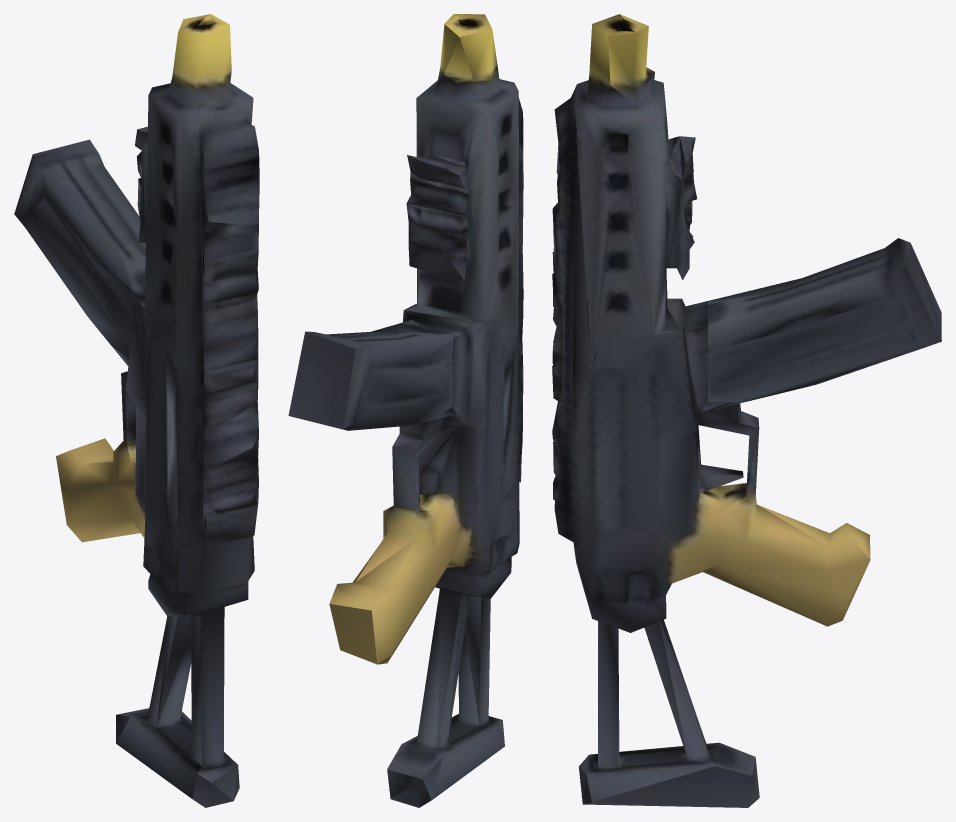
File: hornet.glb
3 renders of one model, left to right at view 1: azimuth 30°, elevation 25°; view 2: azimuth 150°, elevation 25°; view 3: azimuth 270°, elevation 25°, orthographic. The views are drawn at different scales.
Parts seen in each view (by area): view 1: hornet, part_mag; view 2: hornet, part_mag; view 3: hornet, part_mag.
Boxes of the visible parts, x1,y1,x2,y2 form: hornet: [56, 14, 259, 807]; part_mag: [14, 139, 145, 357]; hornet: [329, 14, 523, 807]; part_mag: [288, 323, 453, 430]; hornet: [552, 14, 870, 807]; part_mag: [708, 238, 941, 402].
Size of the model in its own units: 0.0715 by 0.5779 by 0.2633.
1 material, 1 textured.
